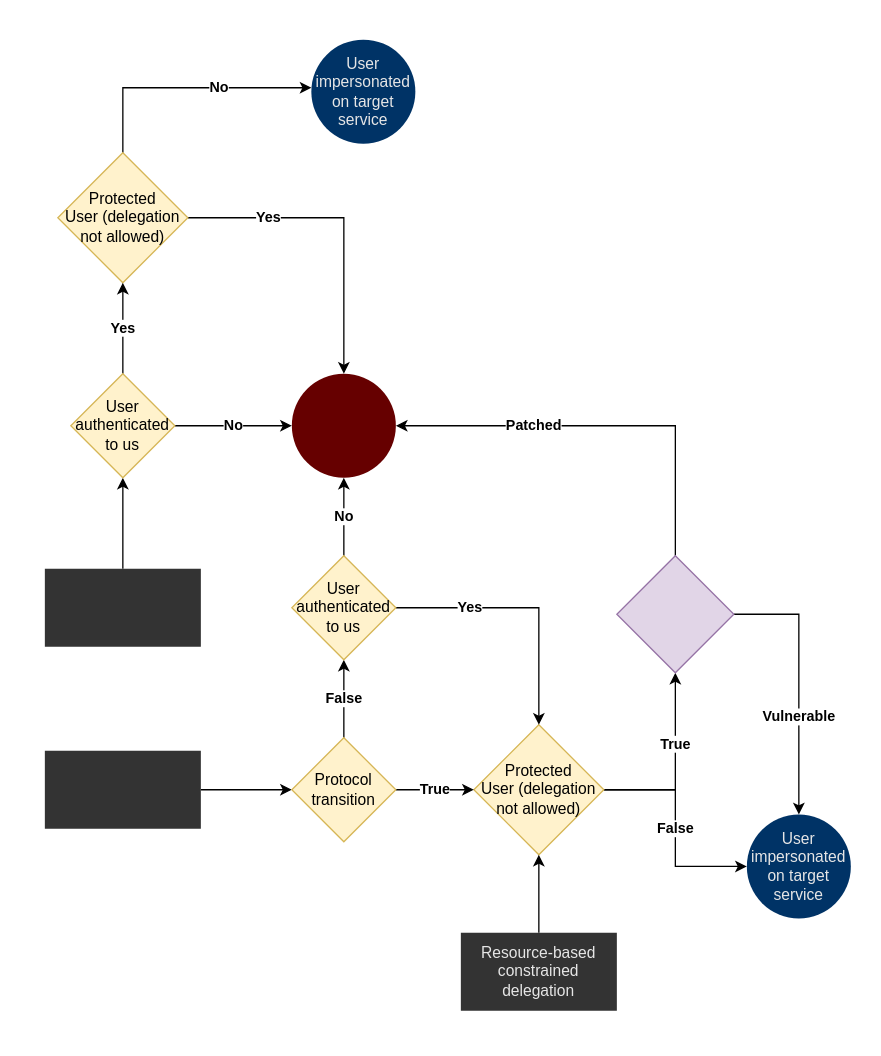
The diagram is 881 pixels wide and 1056 high, and some of its shapes have lost their labels. Each missing label, with the box of its shape:
Bronze bit CVE-2020-17049: (616, 554, 734, 673)
Constrained delegation: (44, 750, 200, 828)
Fail: (291, 373, 395, 477)
Unconstrained delegation: (44, 568, 200, 646)
